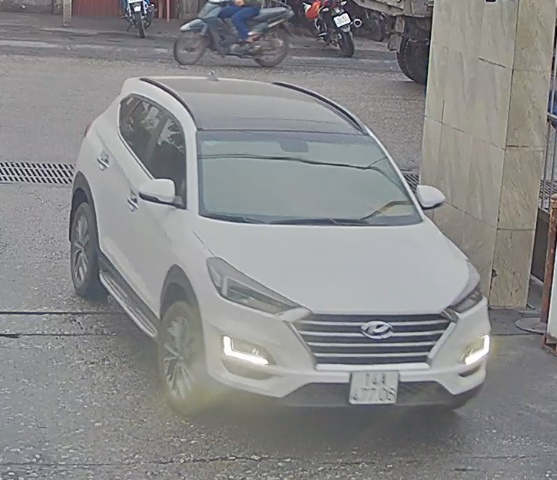vehicle plate: (348, 367, 399, 406)
